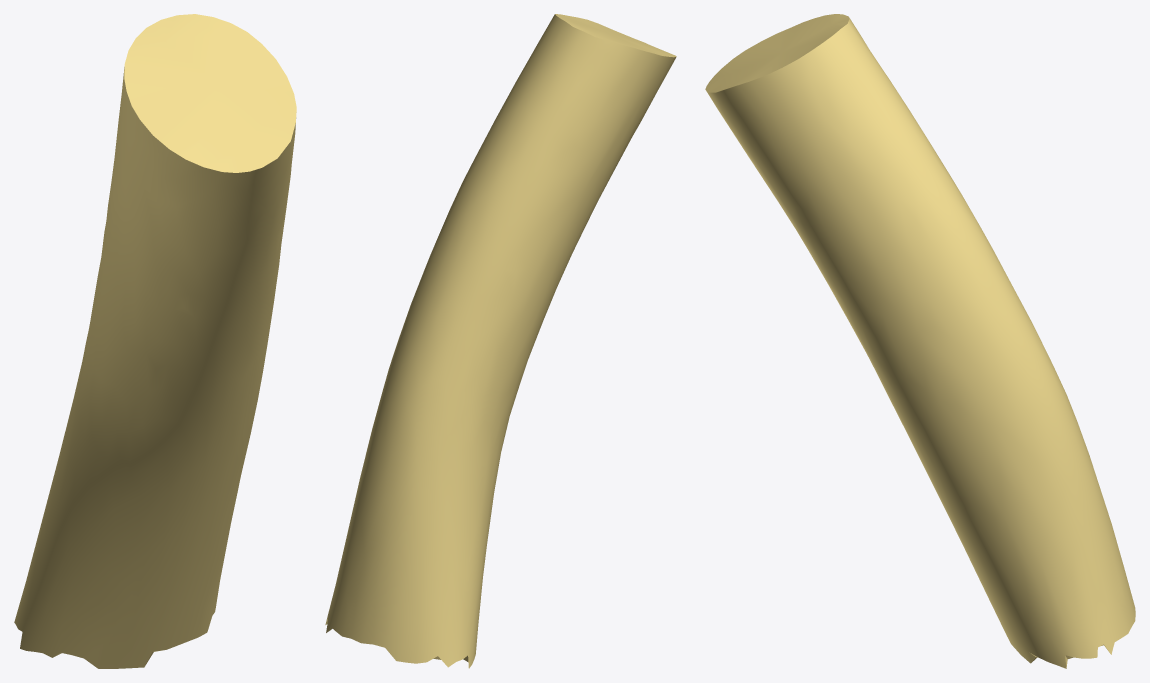
File: fma73815_mm3520m.glb
The picture shows the model from 3 angles, left to right: view 1: azimuth 30°, elevation 25°; view 2: azimuth 150°, elevation 25°; view 3: azimuth 270°, elevation 25°; orthographic projection. The views are drawn at different scales.
Parts seen in each view (by area): view 1: FMA73815_MM3520M; view 2: FMA73815_MM3520M; view 3: FMA73815_MM3520M.
Part boxes in pixels (left/top/right/bottom): FMA73815_MM3520M: left=14, top=14, right=296, bottom=668; FMA73815_MM3520M: left=325, top=14, right=676, bottom=668; FMA73815_MM3520M: left=705, top=14, right=1135, bottom=668.
Size of the model in its own units: 0.0033 by 0.00919 by 0.00606.
